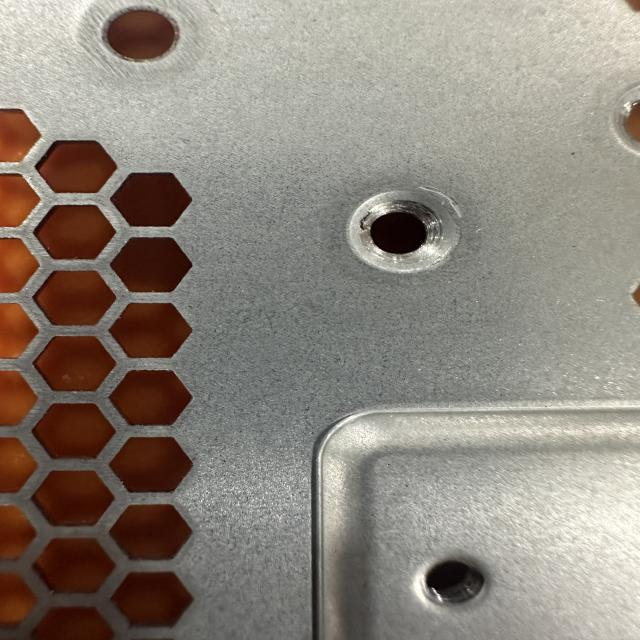Missing screw: (341, 184, 472, 281)
